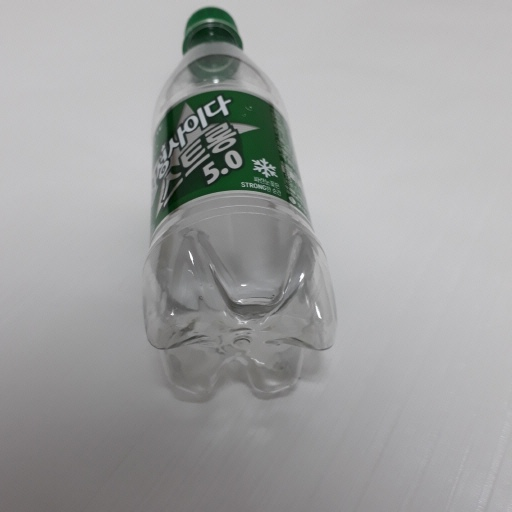Plastic_0: (140, 6, 340, 399)
